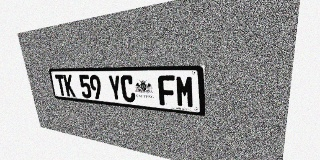5: (79, 75, 92, 99)
9: (89, 75, 103, 100)
C: (120, 75, 136, 103)
F: (158, 75, 176, 107)
K: (63, 75, 76, 97)
M: (175, 75, 195, 108)
T: (55, 75, 67, 96)
Y: (107, 75, 123, 101)
